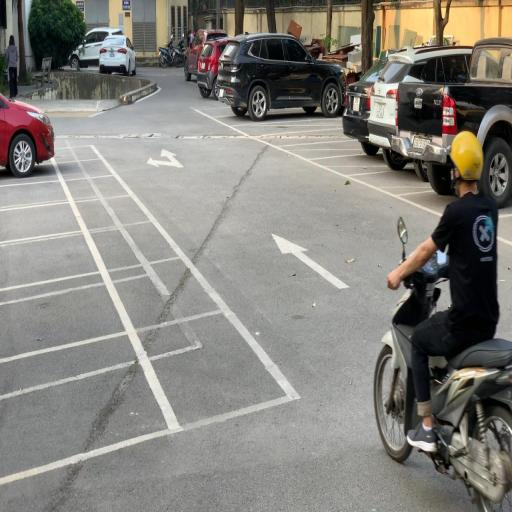bike: (370, 128, 511, 512)
with helmet: (450, 129, 484, 182)
